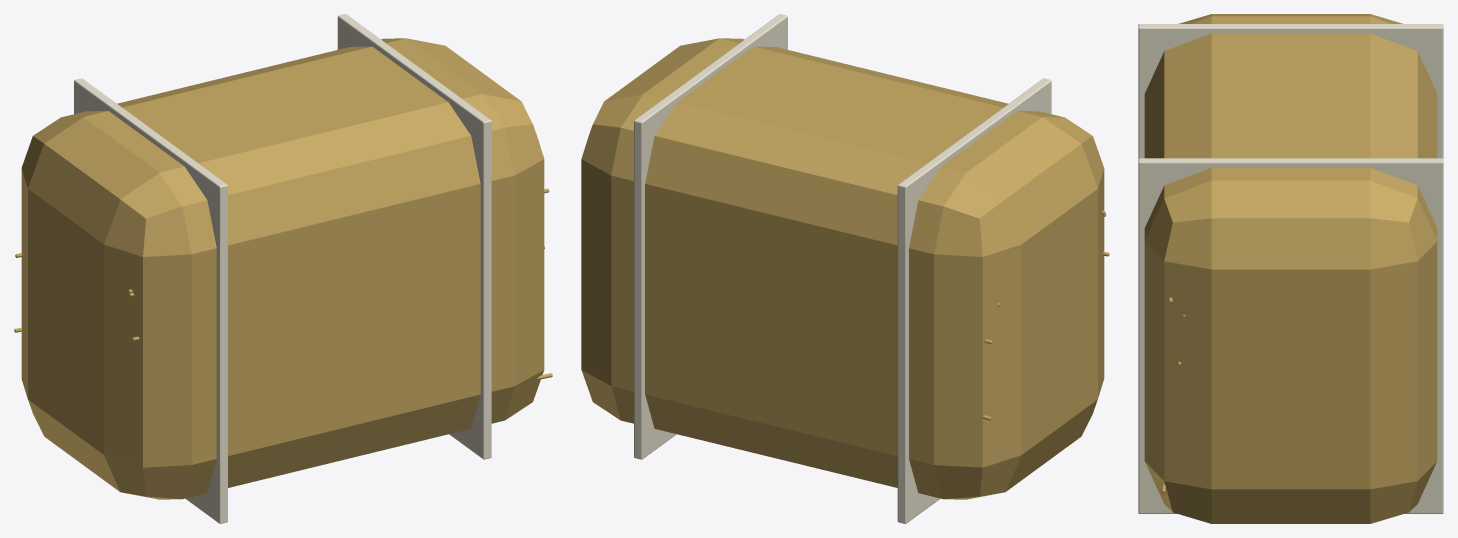
The model's file is Prop_Hay_Bale_01_LOD0.fbx.
3 views of the same model, side by side, from view 1: azimuth 30°, elevation 25°; view 2: azimuth 150°, elevation 25°; view 3: azimuth 270°, elevation 25° (orthographic). The views are drawn at different scales.
Visible parts, largest first — view 1: Prop_Hay_Bale_01_OPT_Merged_ENV_Hay_OPT_DATA, Prop_Hay_Bale_01_OPT_Merged_RB_Ivory_Number_OPT_DATA; view 2: Prop_Hay_Bale_01_OPT_Merged_ENV_Hay_OPT_DATA, Prop_Hay_Bale_01_OPT_Merged_RB_Ivory_Number_OPT_DATA; view 3: Prop_Hay_Bale_01_OPT_Merged_ENV_Hay_OPT_DATA, Prop_Hay_Bale_01_OPT_Merged_RB_Ivory_Number_OPT_DATA.
Boxes of the visible parts, x1,y1,x2,y2 form: Prop_Hay_Bale_01_OPT_Merged_ENV_Hay_OPT_DATA: (14,38,552,499); Prop_Hay_Bale_01_OPT_Merged_RB_Ivory_Number_OPT_DATA: (74,14,491,523); Prop_Hay_Bale_01_OPT_Merged_ENV_Hay_OPT_DATA: (581,38,1109,499); Prop_Hay_Bale_01_OPT_Merged_RB_Ivory_Number_OPT_DATA: (634,14,1051,523); Prop_Hay_Bale_01_OPT_Merged_ENV_Hay_OPT_DATA: (1144,14,1437,523); Prop_Hay_Bale_01_OPT_Merged_RB_Ivory_Number_OPT_DATA: (1138,24,1443,513).
Size of the model in its own units: 125 by 93 by 73.
